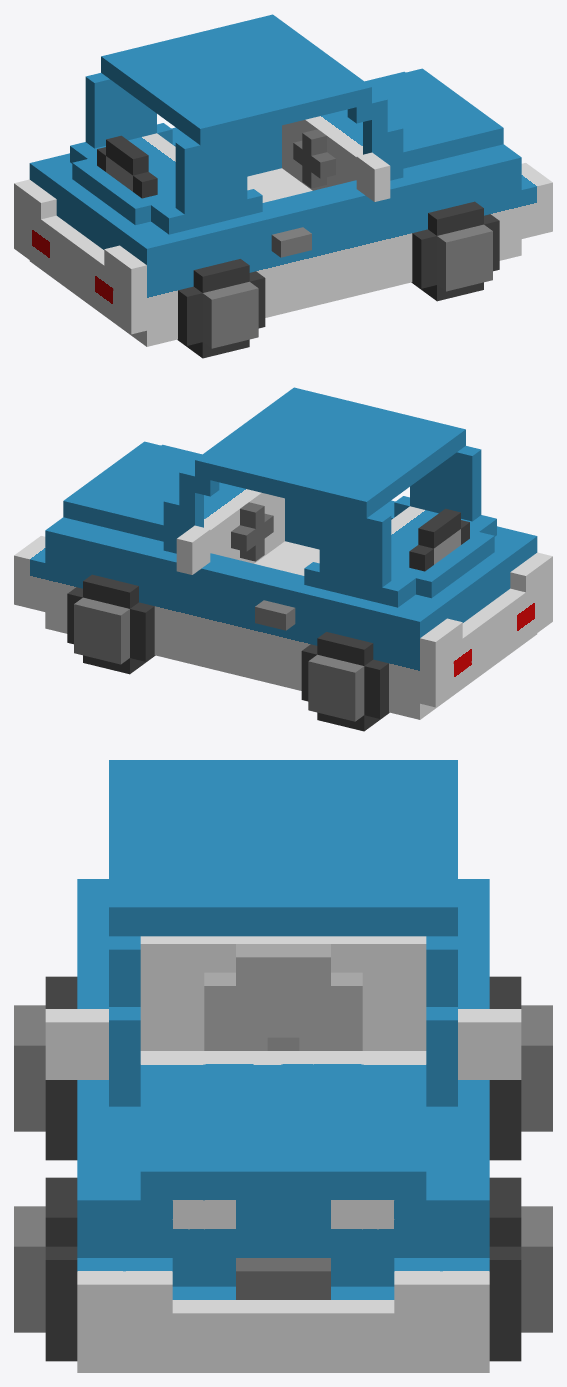
File: veh_car1a.dae
3 views of the same model, one above another, from view 1: azimuth 30°, elevation 25°; view 2: azimuth 150°, elevation 25°; view 3: azimuth 270°, elevation 25° (orthographic). The views are drawn at different scales.
Visible parts, largest first — view 1: veh_car1a; view 2: veh_car1a; view 3: veh_car1a.
Part boxes in pixels (x1,y1,x2,y2): veh_car1a: (14,14,552,358); veh_car1a: (14,387,552,731); veh_car1a: (14,760,552,1372).
Bounding box in the file's own units: 2.7 × 1.7 × 1.3.
1 material, 1 textured.
